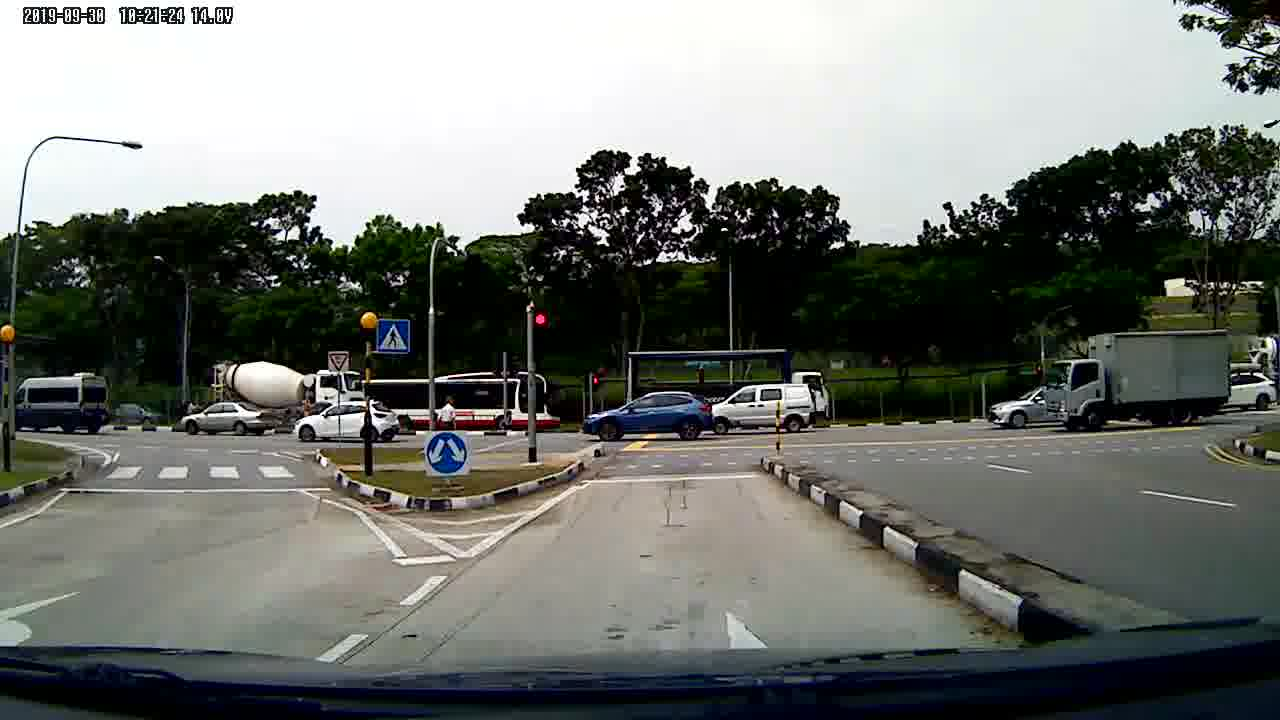bus: (359, 370, 563, 434)
car: (578, 391, 717, 452), (292, 405, 401, 440), (181, 403, 276, 435), (989, 387, 1048, 429)
